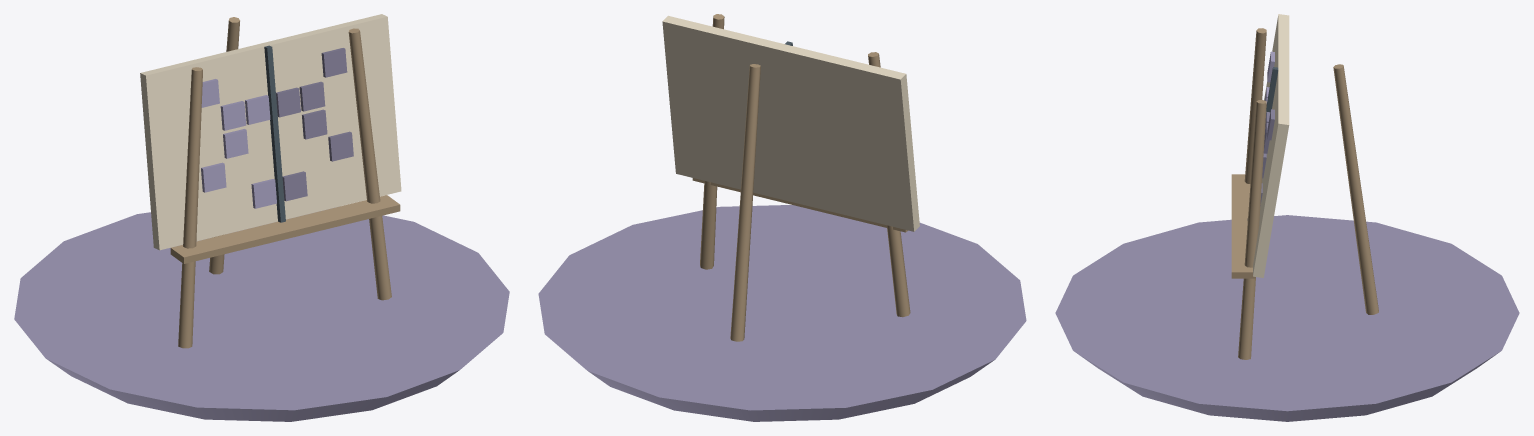
The model's file is party_mg30_mirror_easel.glb.
3 views of the same model, side by side, from view 1: azimuth 30°, elevation 25°; view 2: azimuth 150°, elevation 25°; view 3: azimuth 270°, elevation 25° (orthographic). The views are drawn at different scales.
Parts seen in each view (by area): view 1: _MeshInstance3D_168, _MeshInstance3D_173, _MeshInstance3D_187, _MeshInstance3D_169, _MeshInstance3D_170, _MeshInstance3D_174, _MeshInstance3D_171, _MeshInstance3D_182, _MeshInstance3D_177, _MeshInstance3D_178, _MeshInstance3D_181, _MeshInstance3D_184 (+7 smaller); view 2: _MeshInstance3D_168, _MeshInstance3D_173, _MeshInstance3D_171, _MeshInstance3D_169, _MeshInstance3D_170, _MeshInstance3D_187; view 3: _MeshInstance3D_168, _MeshInstance3D_173, _MeshInstance3D_171, _MeshInstance3D_170, _MeshInstance3D_187, _MeshInstance3D_169.
Part boxes in pixels (x1,y1,x2,y2): _MeshInstance3D_168: (14, 207, 509, 421); _MeshInstance3D_173: (140, 14, 401, 250); _MeshInstance3D_187: (170, 195, 400, 263); _MeshInstance3D_169: (178, 67, 202, 348); _MeshInstance3D_170: (348, 28, 391, 300); _MeshInstance3D_174: (264, 45, 285, 222); _MeshInstance3D_171: (209, 17, 239, 274); _MeshInstance3D_182: (302, 109, 327, 139); _MeshInstance3D_177: (220, 101, 246, 130); _MeshInstance3D_178: (299, 81, 325, 111); _MeshInstance3D_181: (223, 129, 248, 158); _MeshInstance3D_184: (328, 131, 353, 161); _MeshInstance3D_168: (538, 205, 1026, 421); _MeshInstance3D_173: (662, 15, 919, 231); _MeshInstance3D_171: (730, 64, 760, 341); _MeshInstance3D_169: (868, 52, 910, 317); _MeshInstance3D_170: (700, 14, 724, 269); _MeshInstance3D_187: (692, 178, 907, 232); _MeshInstance3D_168: (1055, 215, 1519, 421); _MeshInstance3D_173: (1253, 14, 1289, 277); _MeshInstance3D_171: (1333, 64, 1378, 314); _MeshInstance3D_170: (1238, 100, 1266, 359); _MeshInstance3D_187: (1231, 174, 1255, 278); _MeshInstance3D_169: (1244, 28, 1266, 183).
Size of the model in its own units: 3.4 by 2.18 by 3.4.
